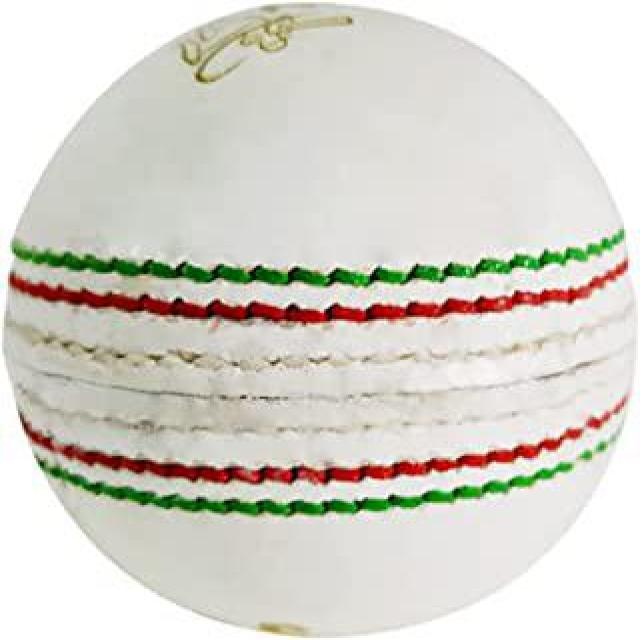ball: (6, 2, 626, 626)
